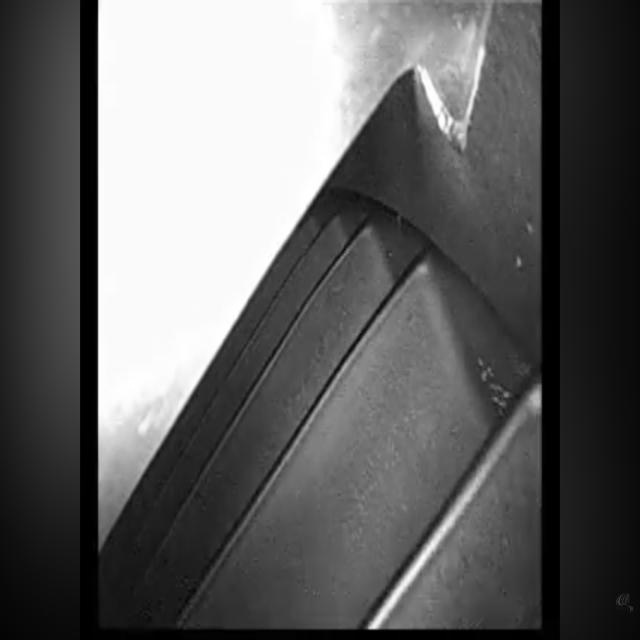turbine_blade: (185, 261, 499, 628), (126, 224, 397, 632), (369, 374, 543, 632)
